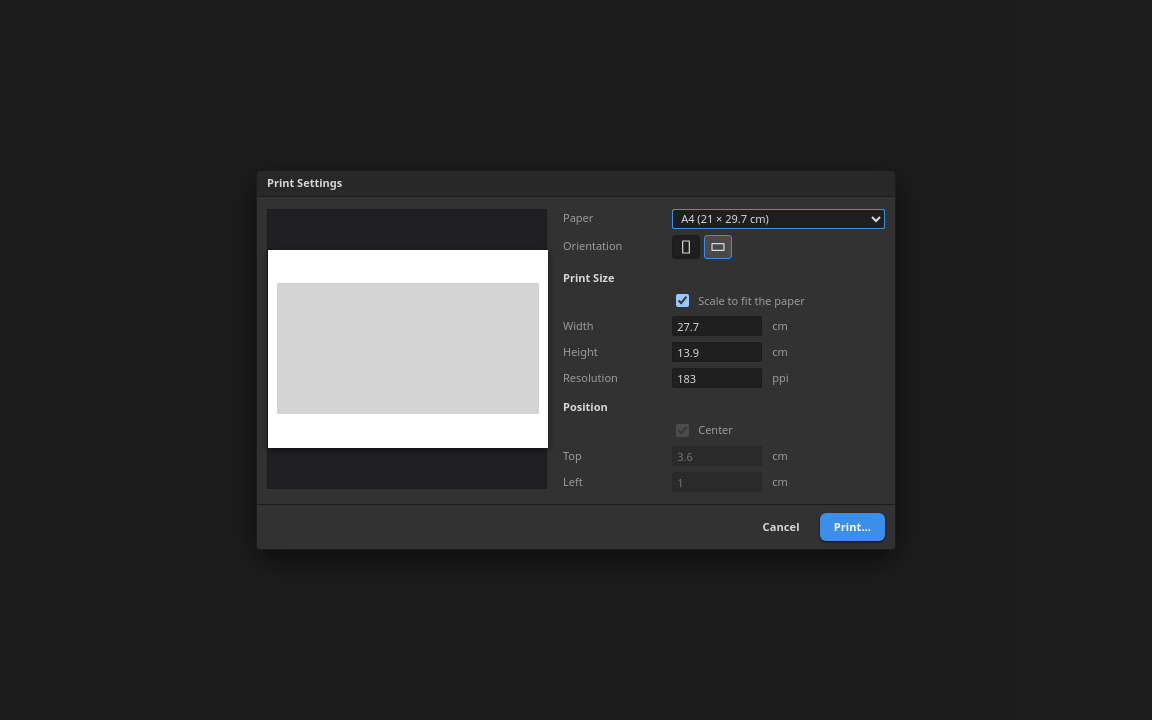
Test: a printed width sets the resolution and stops fitting
The image size is (1152, 720).
Replace the text in the number field labelled "Width" with "10" at {"x": 717, "y": 326}, box [672,316,762,336]
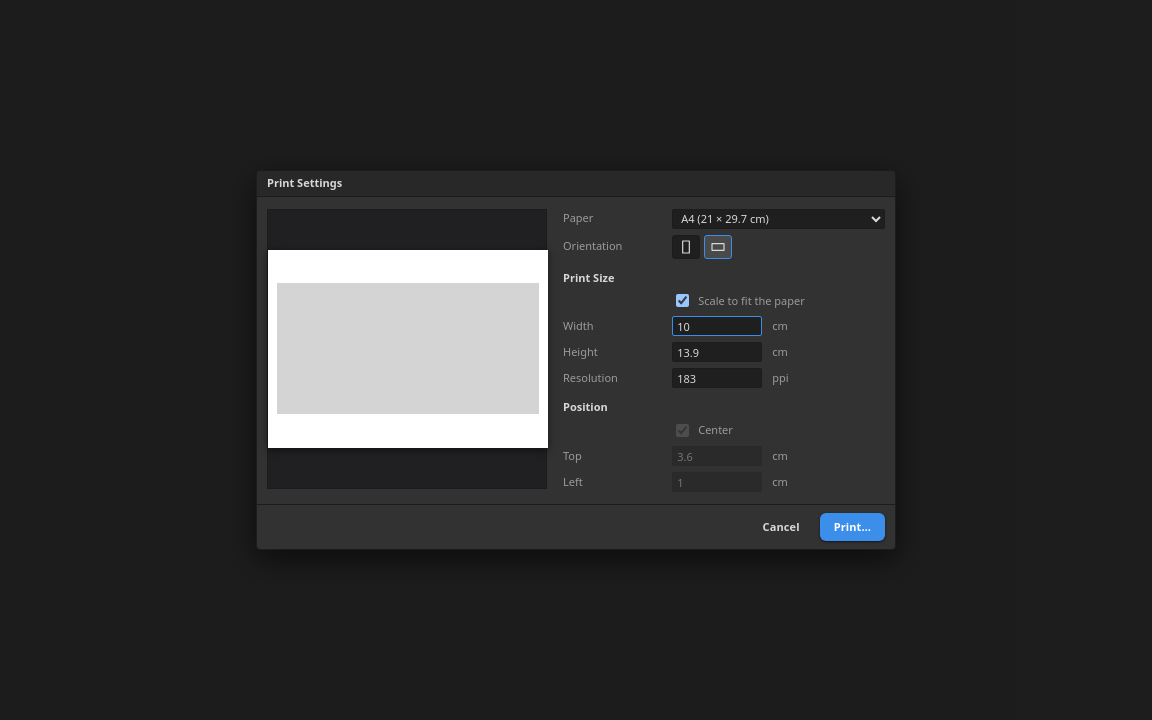
Press Tab
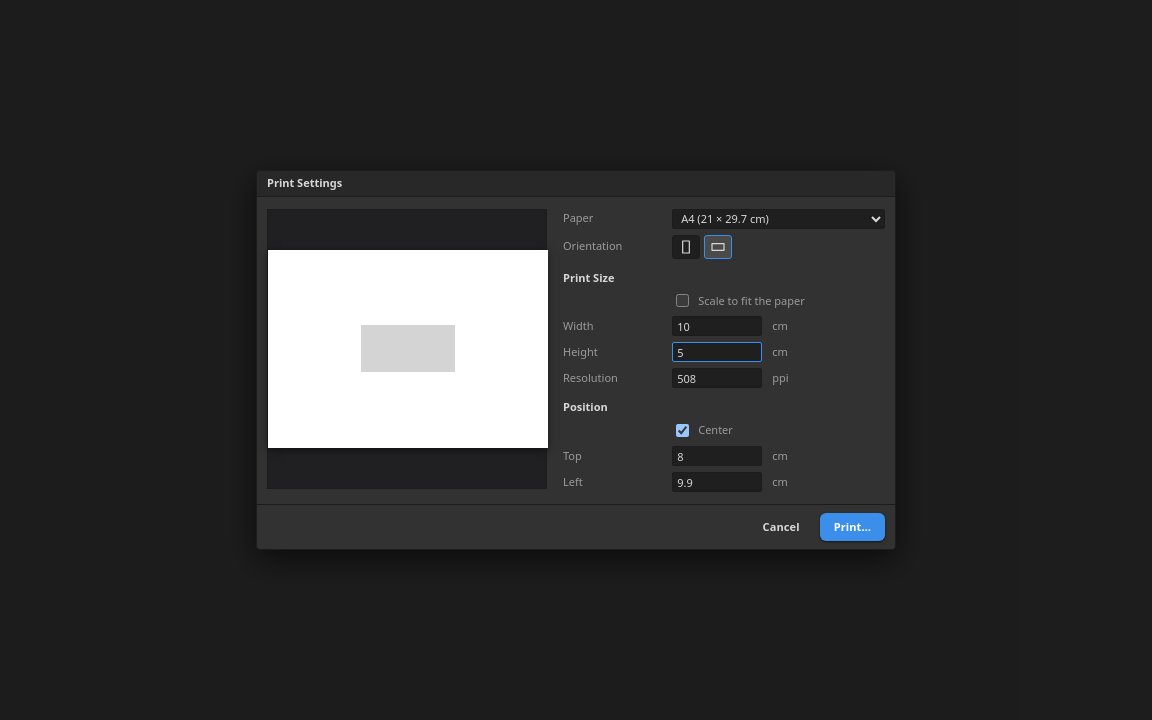
expect the checkbox labelled "Scale to fit the paper" is not checked: met, box [676,294,689,307]
expect the number field labelled "Resolution" holds "508": met, box [672,368,762,388]
expect the number field labelled "Height" holds "5": met, box [672,342,762,362]
